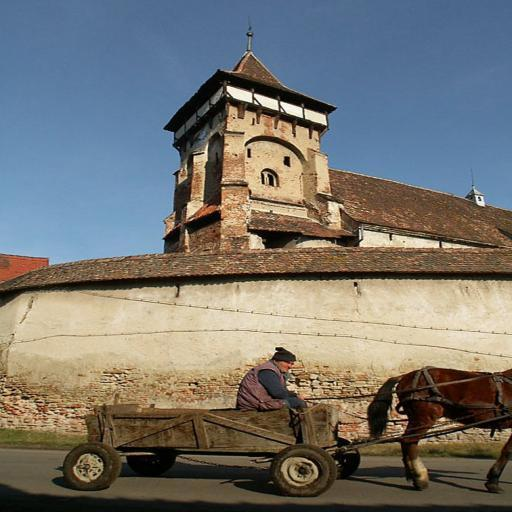horse: (362, 364, 511, 492)
